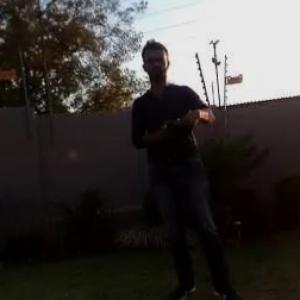follow: (120, 32, 249, 299)
